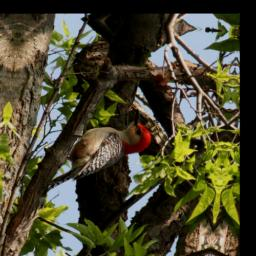Woodpecker: (42, 101, 158, 204)
